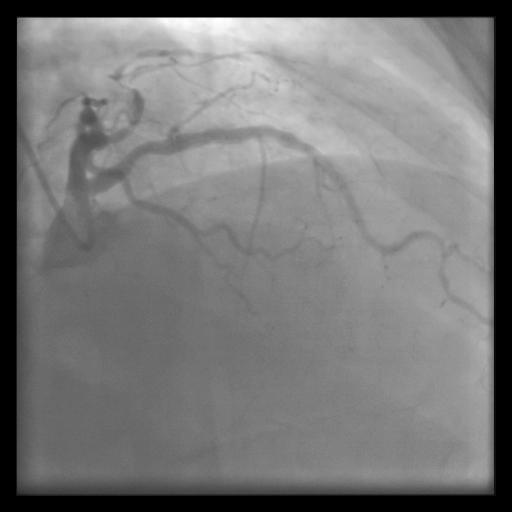Stenosis: (123, 139, 162, 161)
